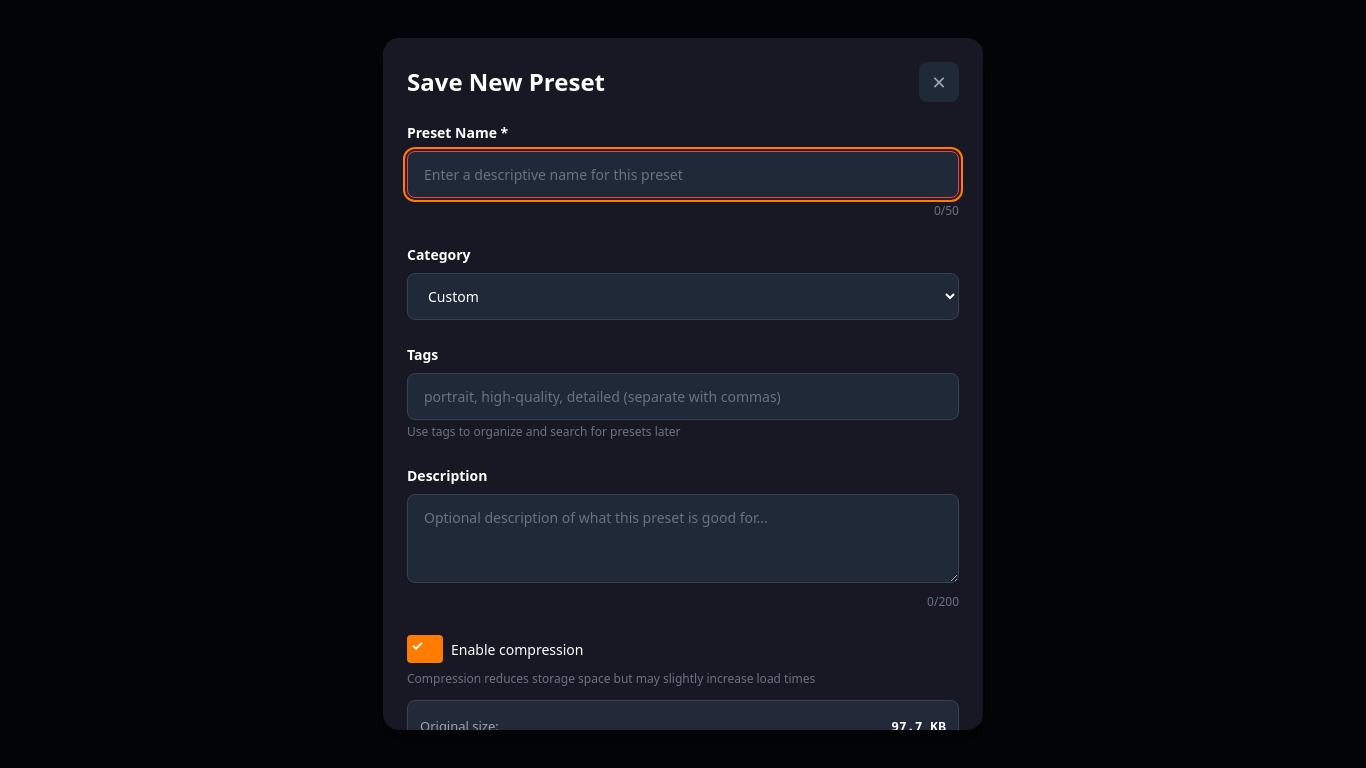
it: PresetSaveDialog › compression handling › should toggle compression preview when checkbox is changed
The image size is (1366, 768).
Check: the text "Original size:" is shown, box [420,717,499,730]
Note: Uncheck compression
Click the checkbox labelled "Enable compression": (425, 649) [407,635,443,663]
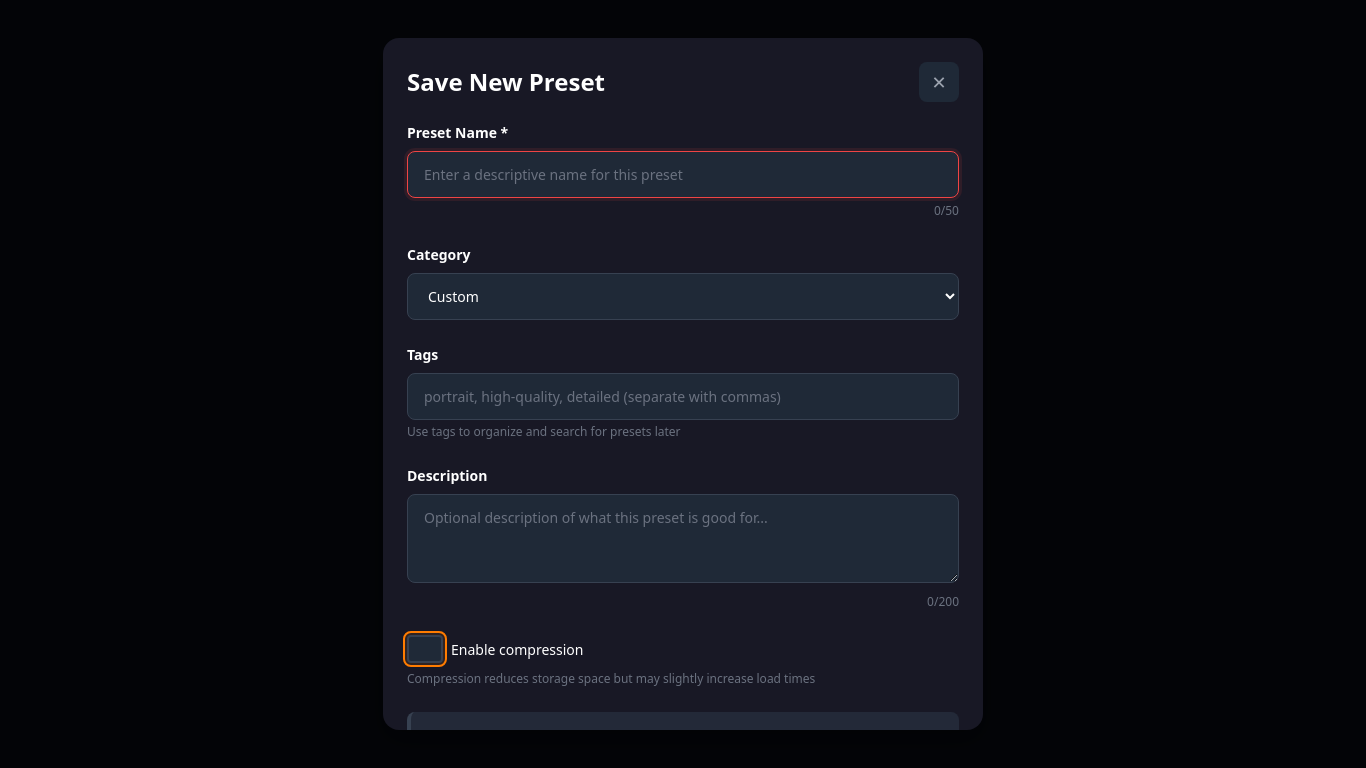
Check: the text "Original size:" is gone
Note: Check compression again
Click the checkbox labelled "Enable compression": (425, 649) [407,635,443,663]
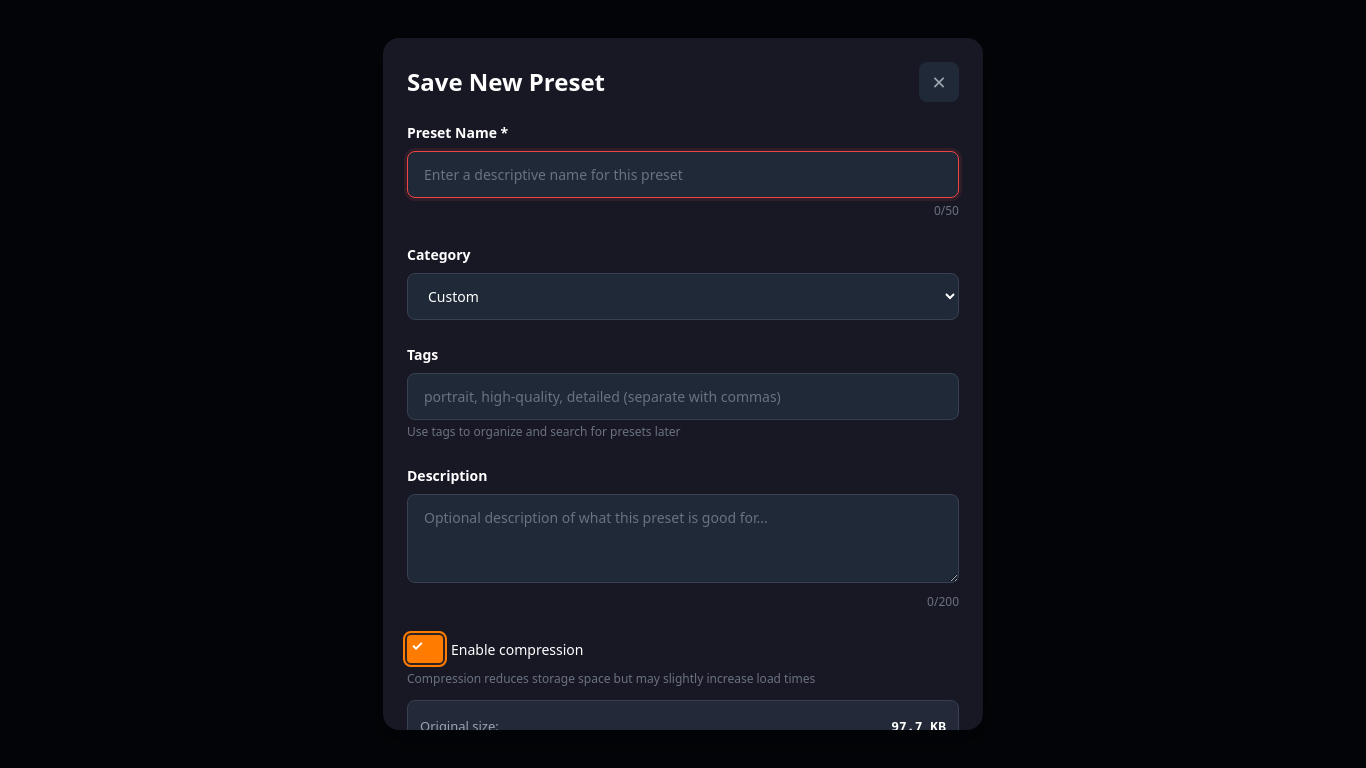
Check: the text "Original size:" is shown, box [420,717,499,730]
